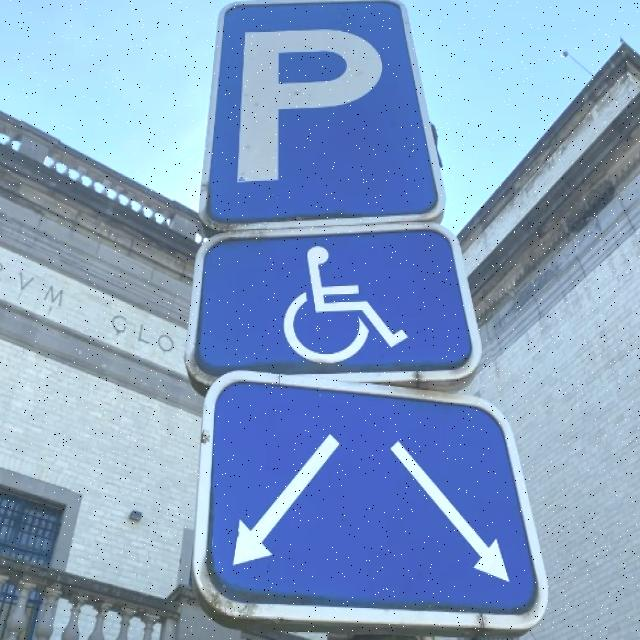symbol_of_access: (181, 220, 487, 390)
